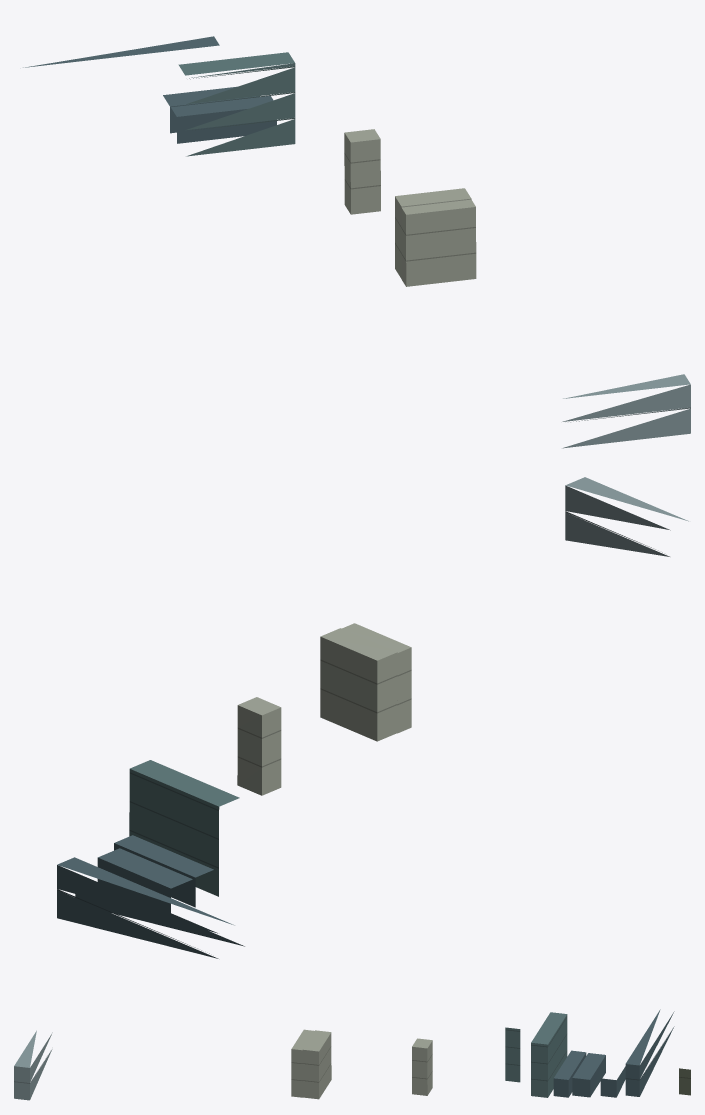
The model's file is terminal-61---33_9.glb.
3 renders of one model, top to bottom at view 1: azimuth 30°, elevation 25°; view 2: azimuth 150°, elevation 25°; view 3: azimuth 270°, elevation 25°, orthographic. The views are drawn at different scales.
Visible parts, largest first — view 1: measured-industrial; view 2: measured-industrial; view 3: measured-industrial.
Part boxes in pixels (box(x1,y1,x2,y2)): measured-industrial: box(23, 36, 690, 448); measured-industrial: box(57, 477, 688, 958); measured-industrial: box(14, 1009, 690, 1100).
Bounding box in the file's own units: 20.97 × 9.01 × 99.39.
